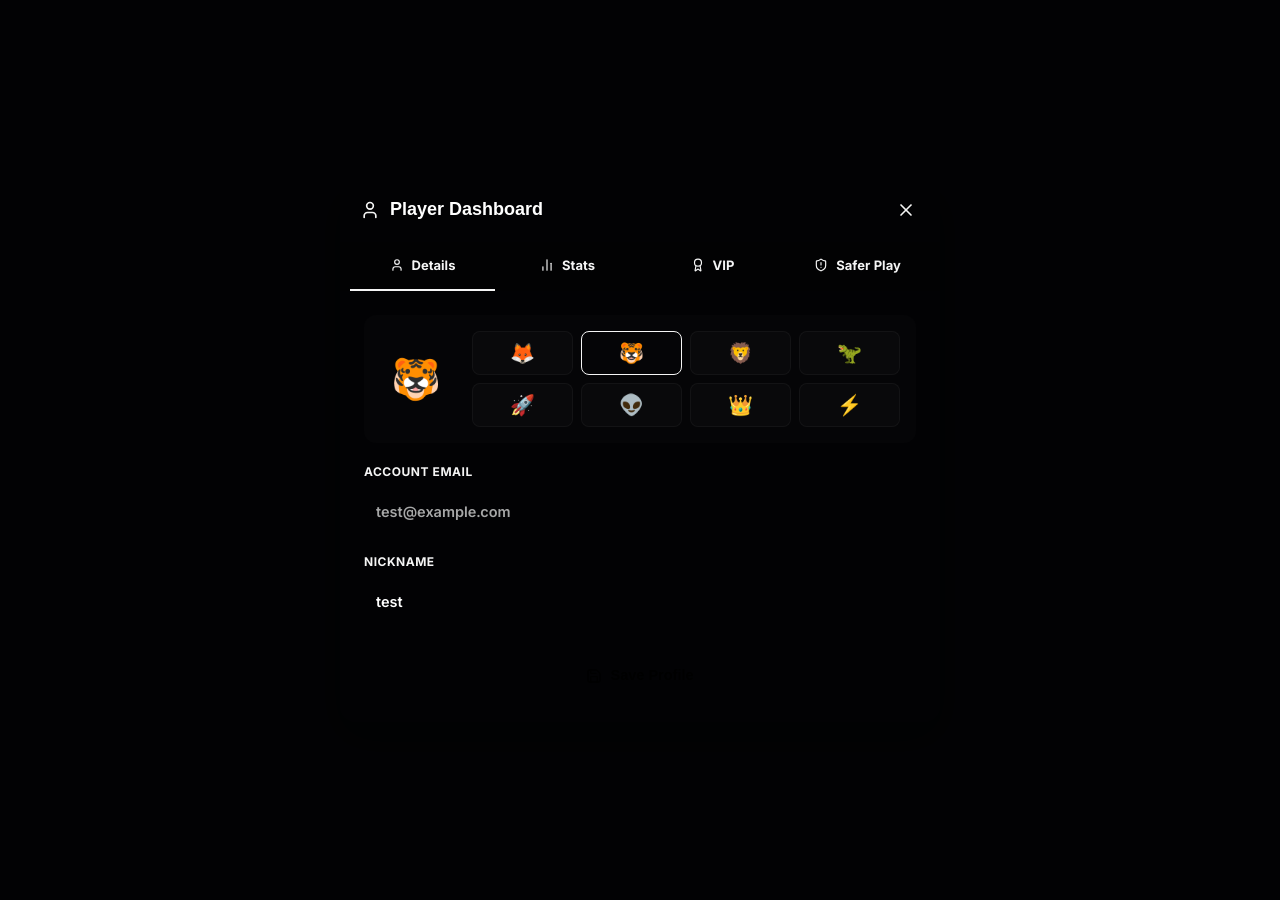
Test case: ProfileModal Component Tests › displays exclusion warning and allow lift override if self-exclusion is active
Click Safer Play
Click the button "Safer Play". click: (858, 266)
box: [785,242,930,291]
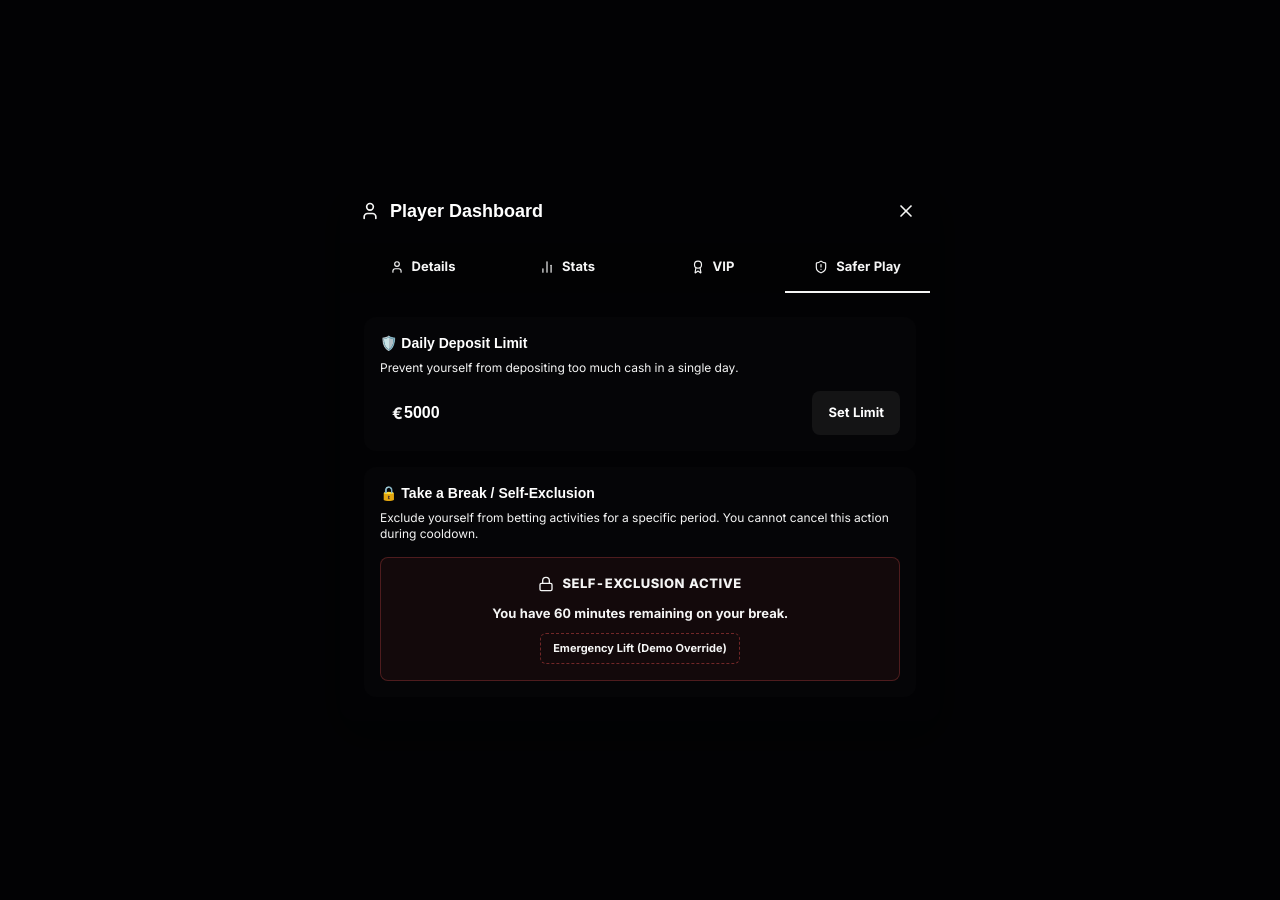
Now the text "SELF-EXCLUSION ACTIVE" is shown, box [562,574,742,594]
Now the button "Emergency Lift (Demo Override)" is shown, box [540,633,740,664]
